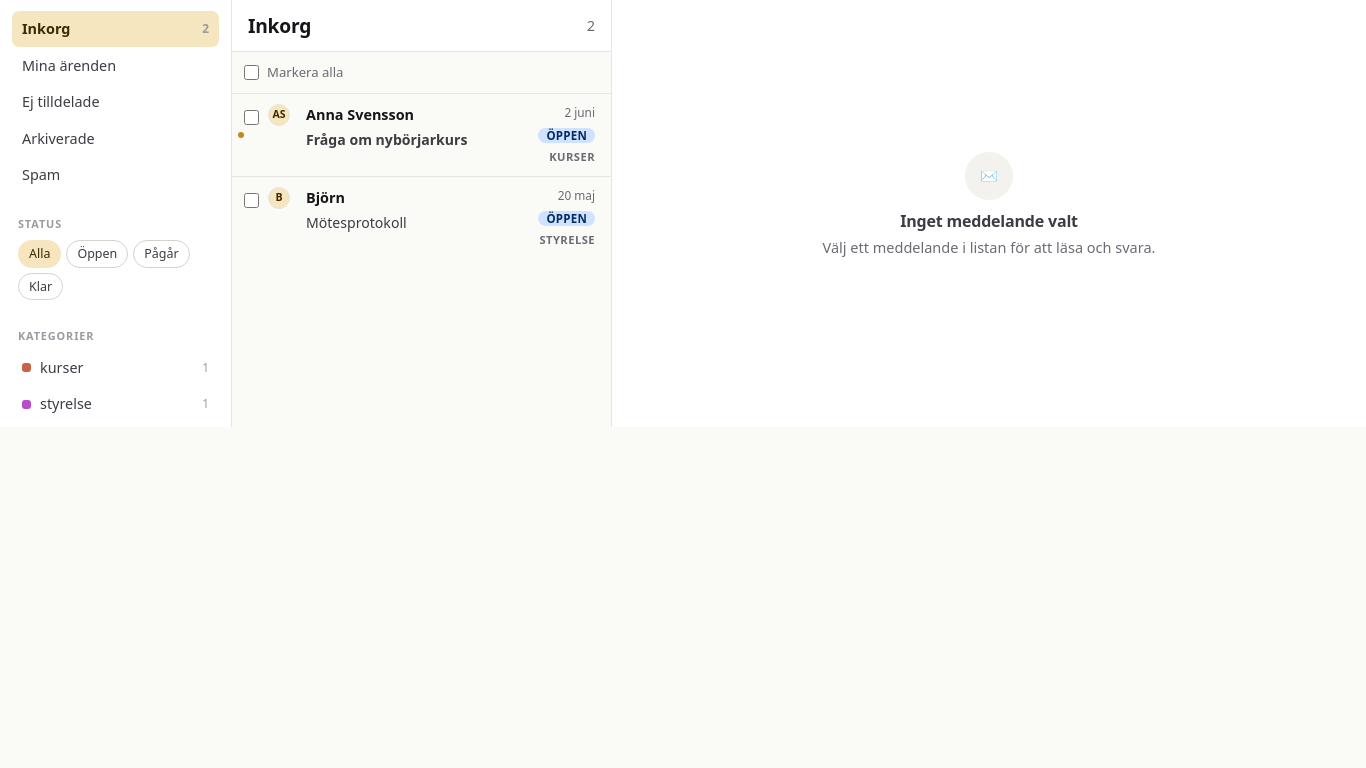
Scenario: InboxView (integration with store + fetch shim) › archiving removes the message from the inbox list
Click the button with class "list-item" that starts with "Anna Svensson" at (422, 136), box [232,94,611,177]
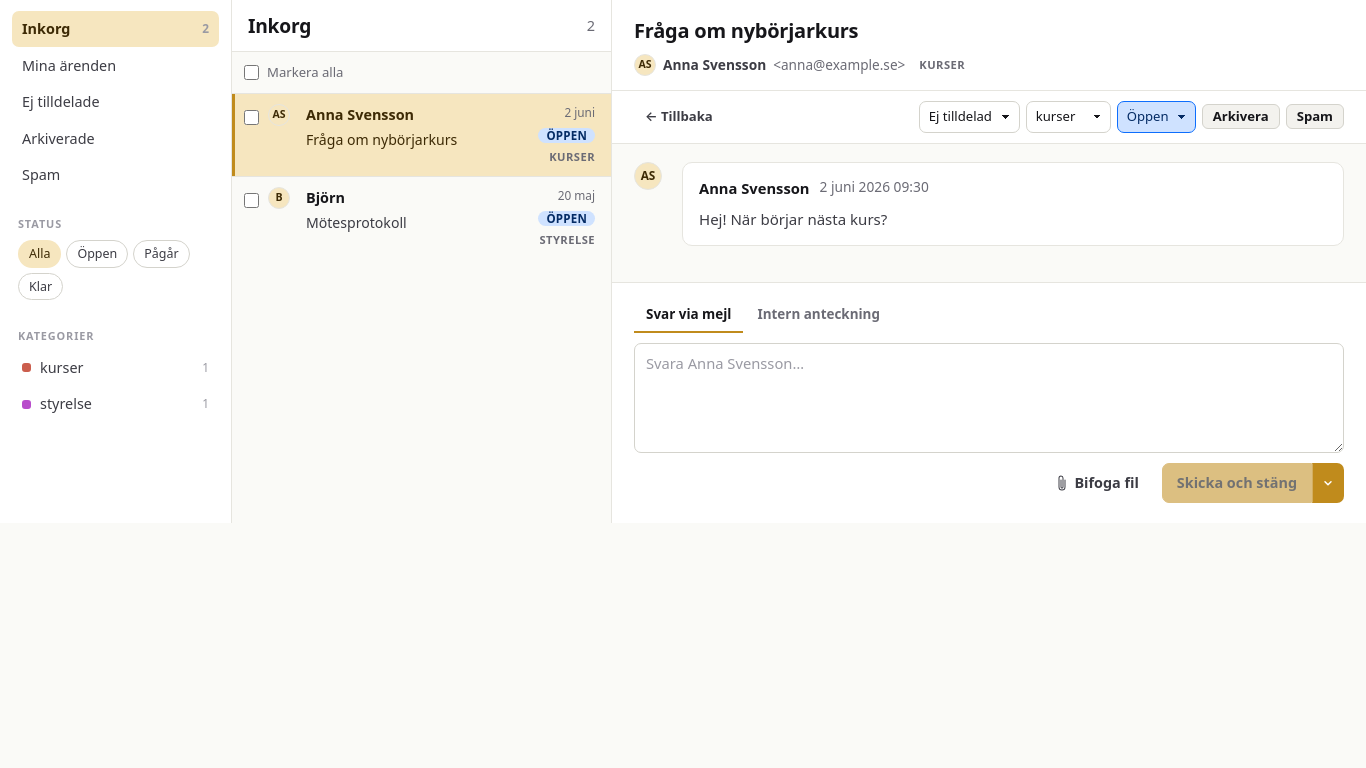
Click the button with test id "archive" at (1241, 117), box [1202,104,1280,129]
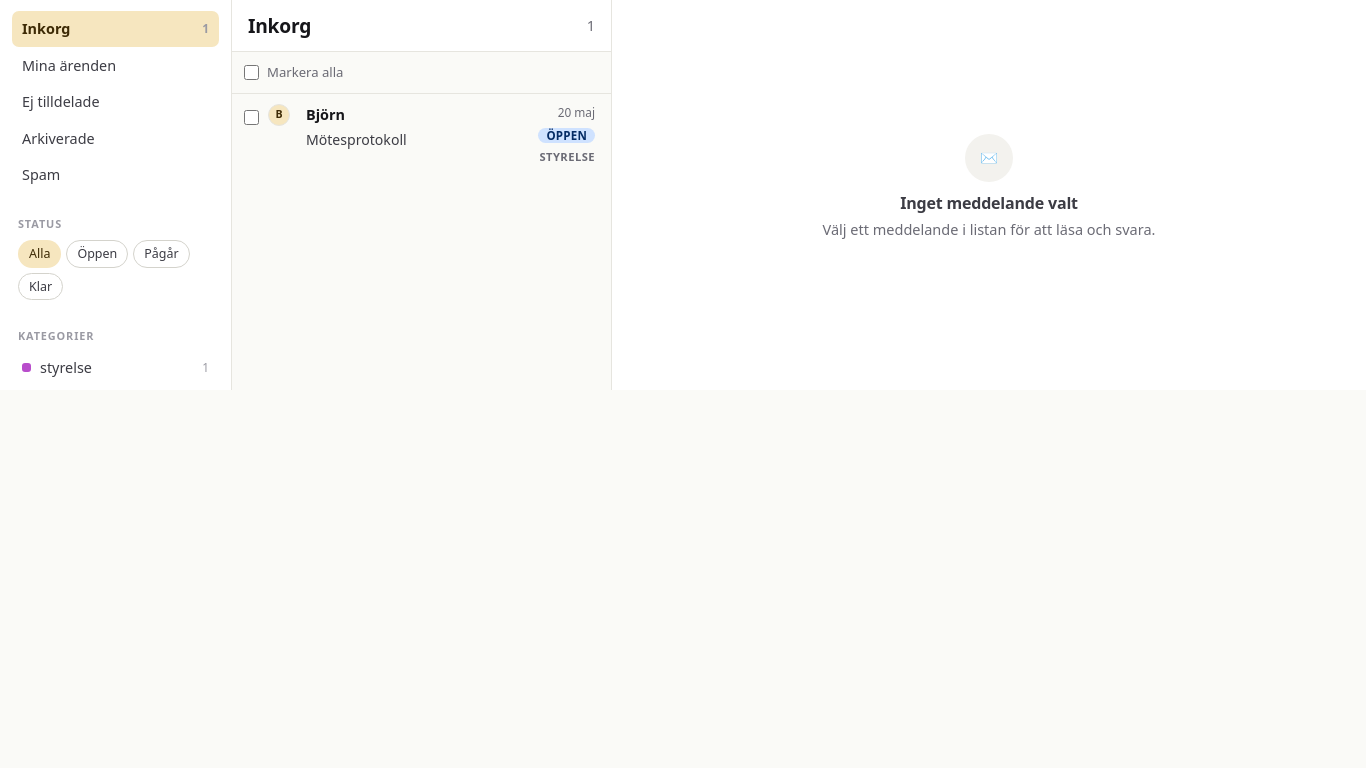
Check: the number of buttons with class "list-item" is 1, box [232,94,611,176]
